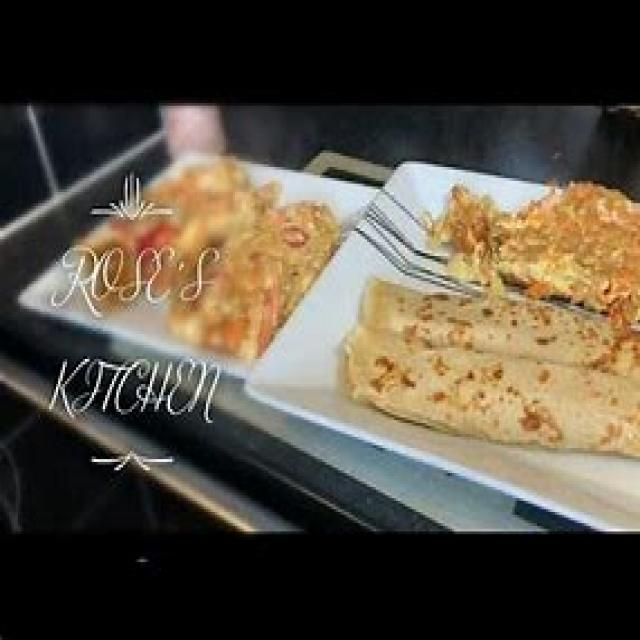Omelette: (432, 164, 638, 309)
Pancakes: (345, 259, 633, 467)
